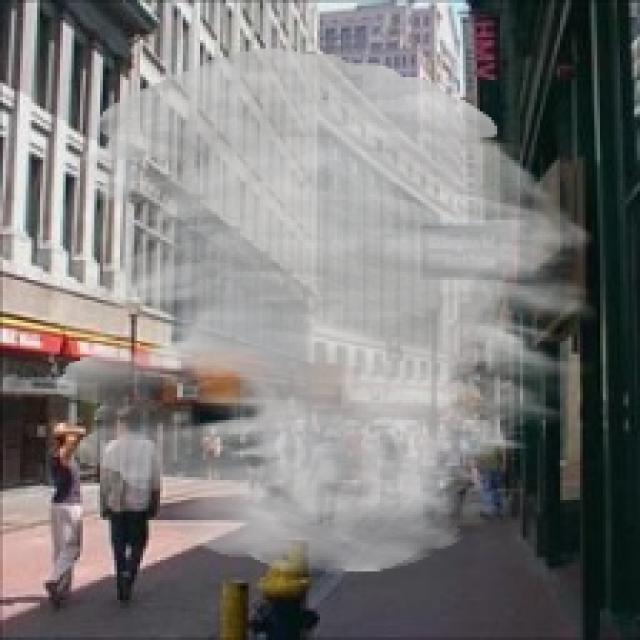smoke: (54, 49, 597, 574)
